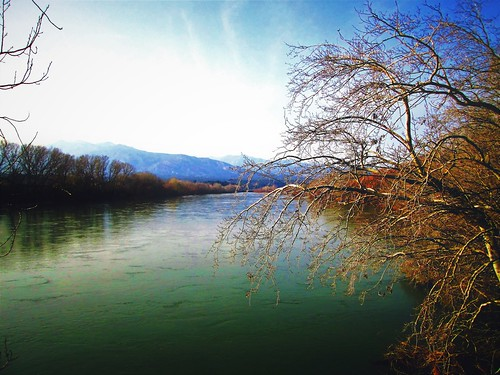river: (1, 197, 429, 375)
sky: (18, 1, 500, 129)
tree: (272, 1, 500, 375)
vegetation: (1, 147, 179, 204)
